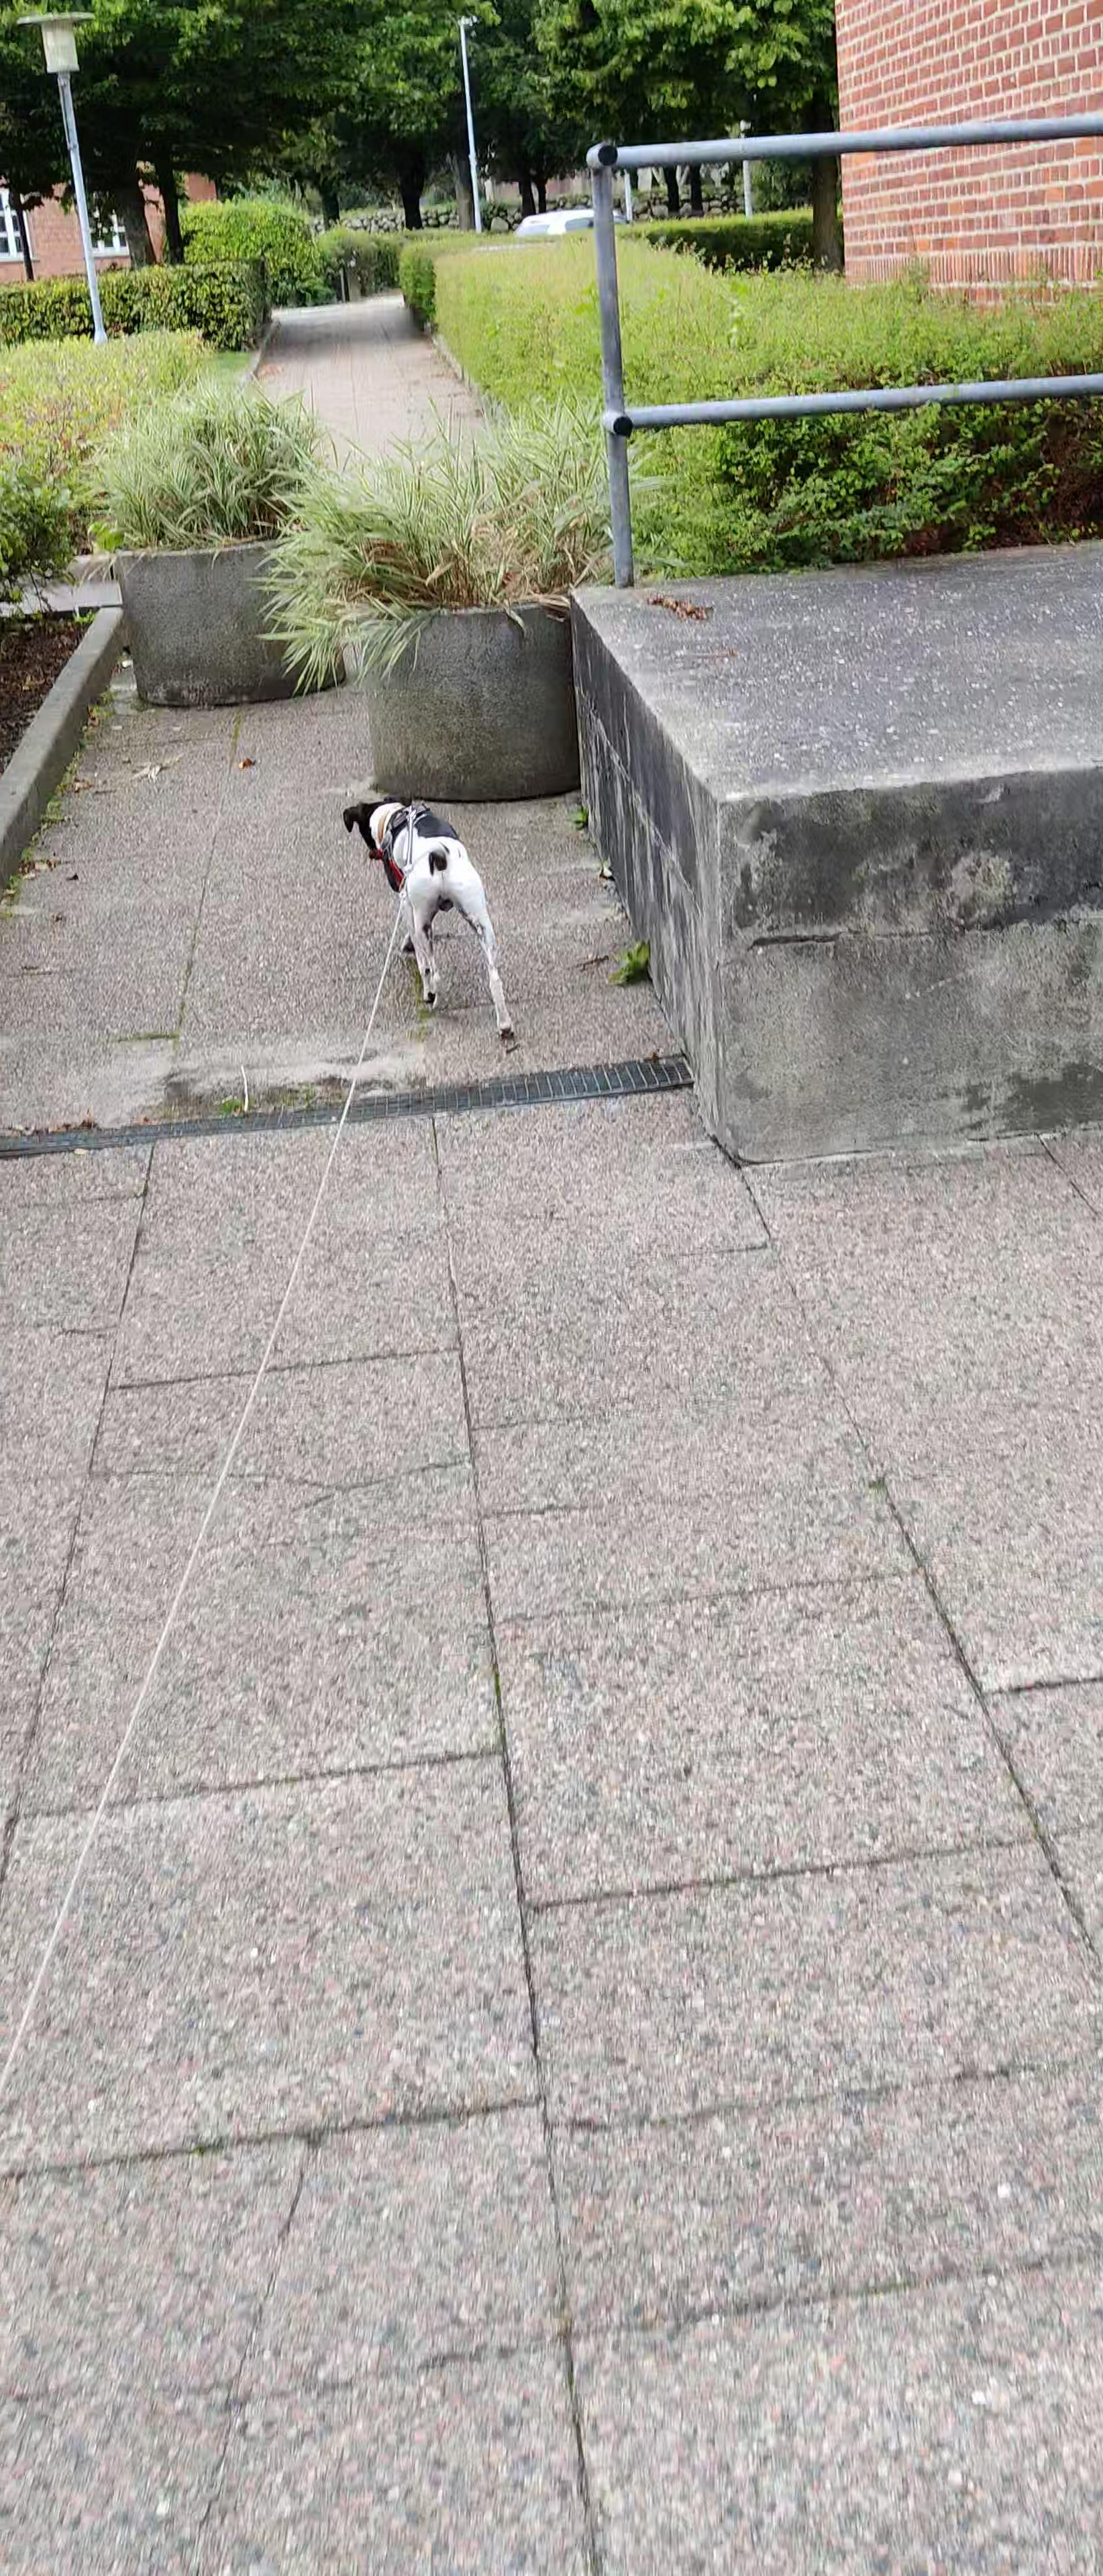Dog: (337, 793, 519, 1040)
